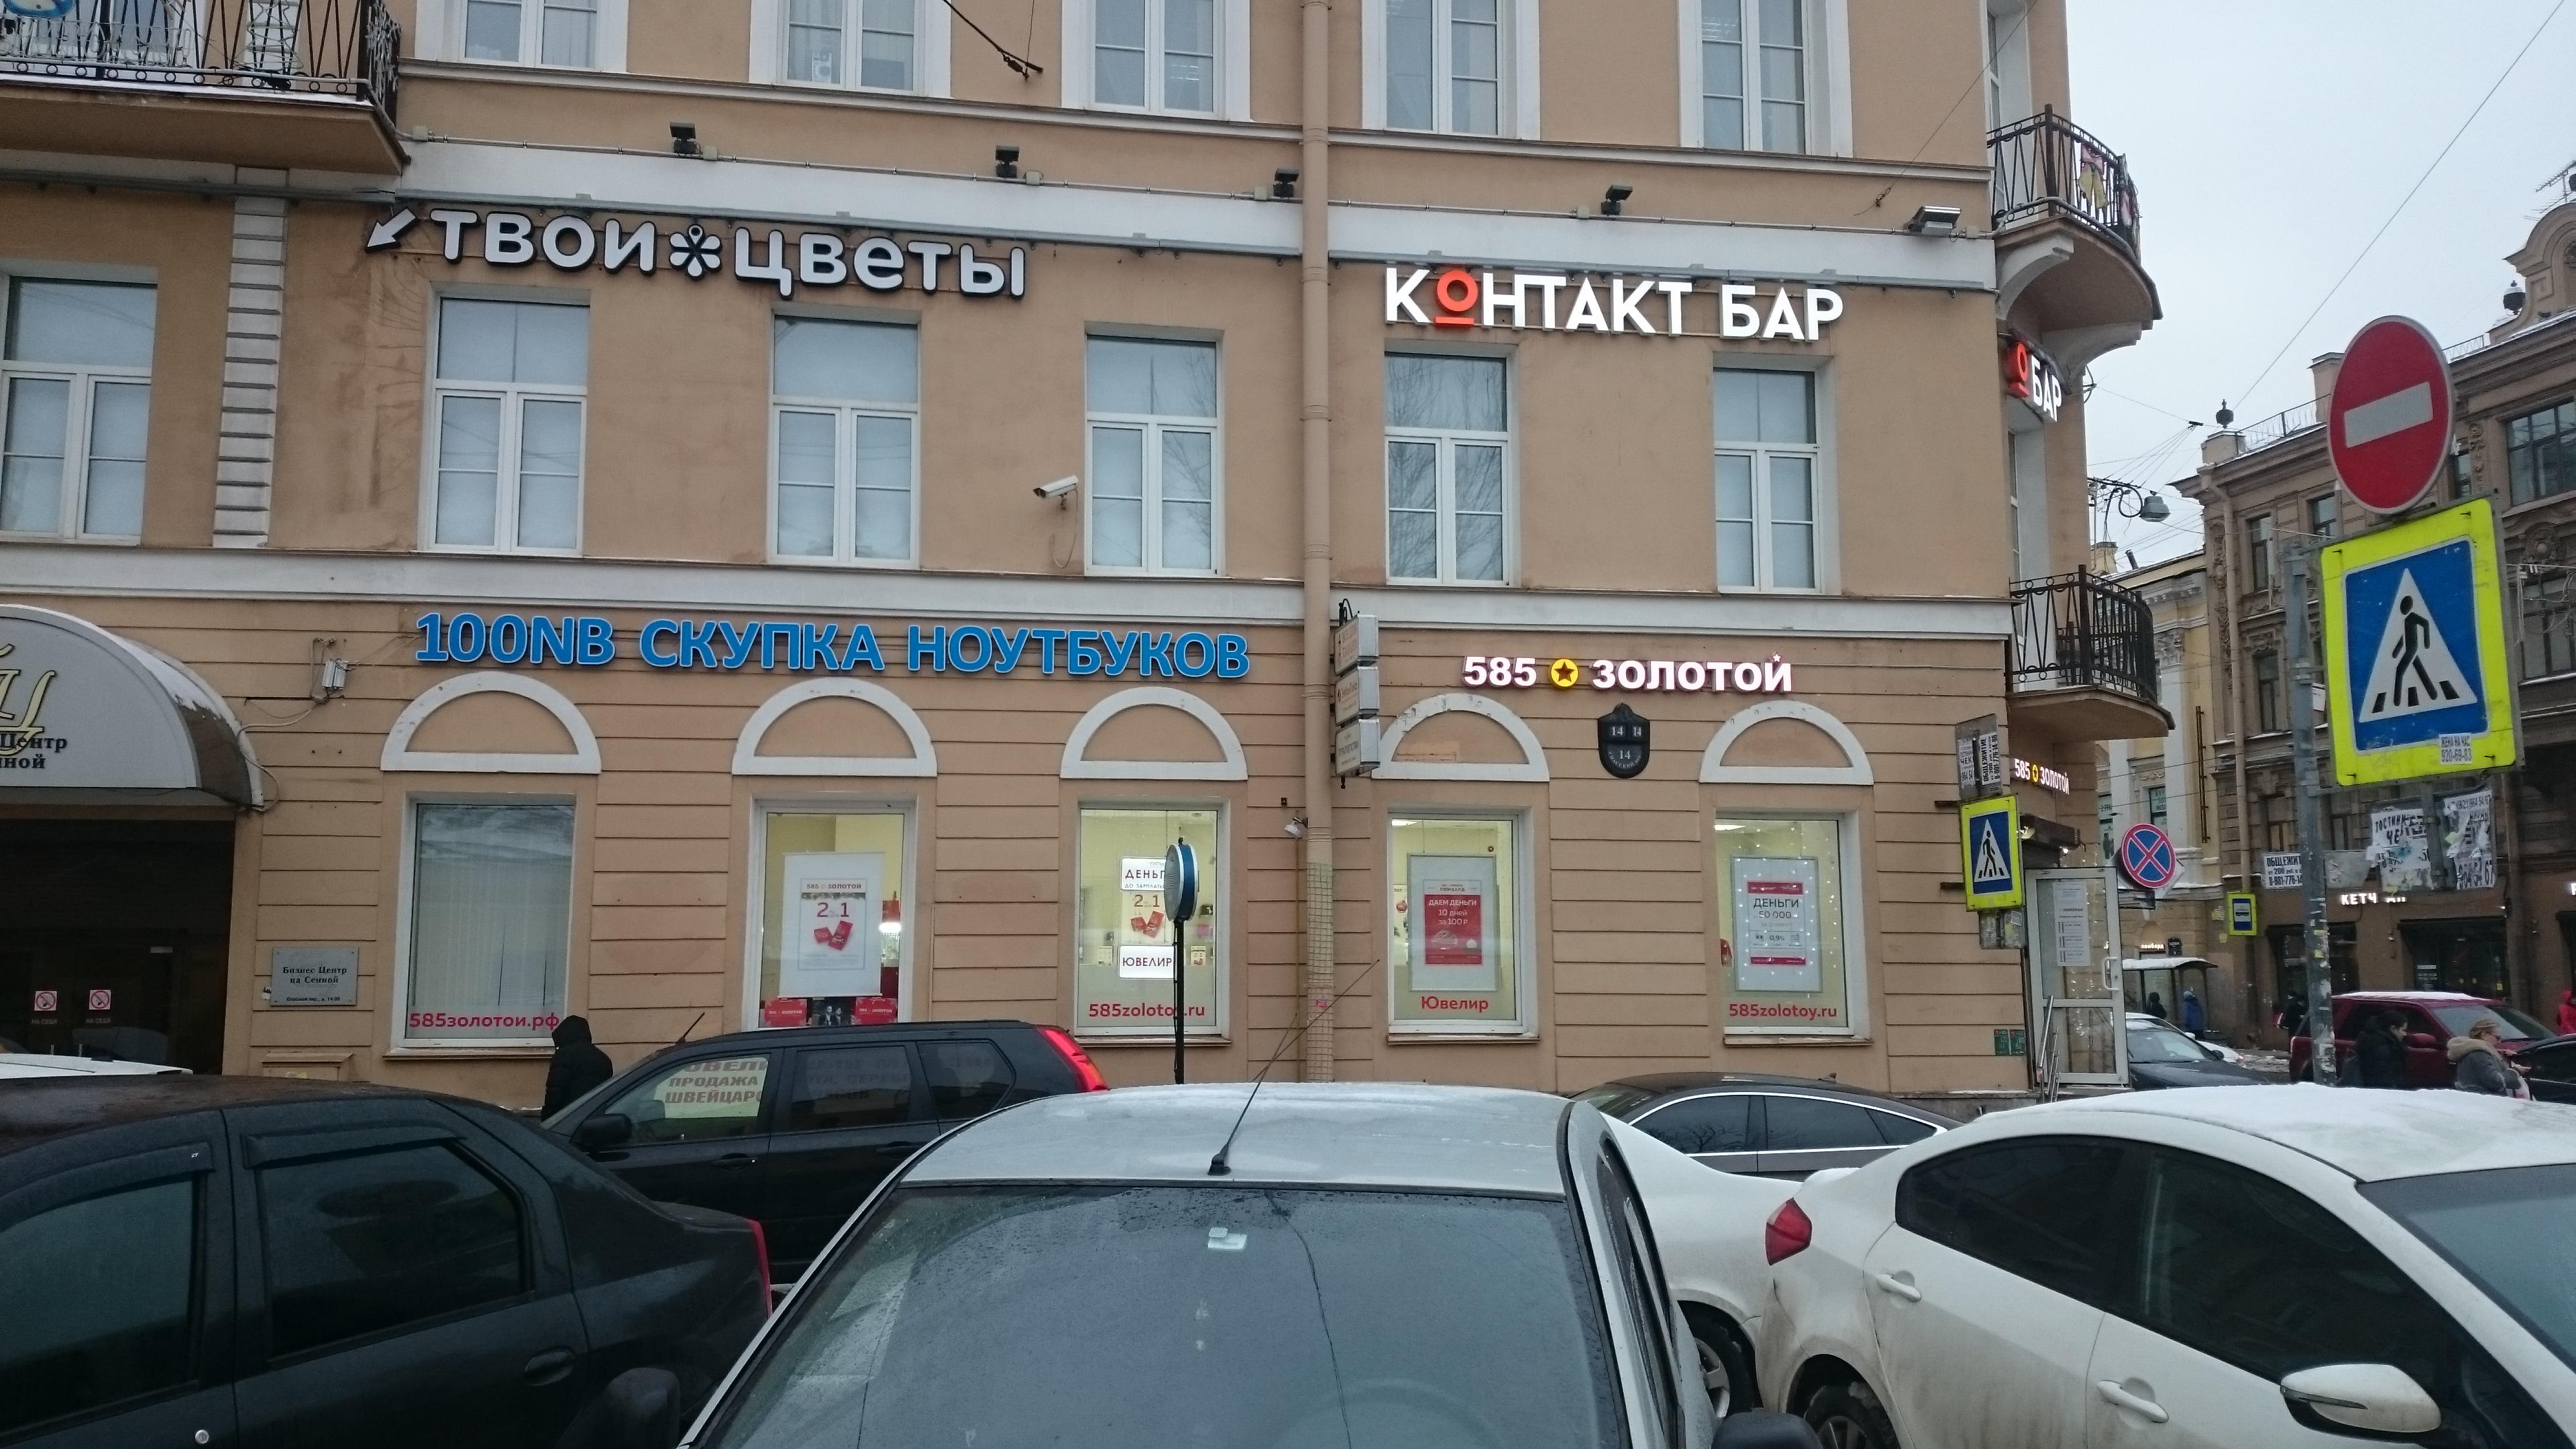cantilever: (1327, 605, 1382, 786)
signboard: (363, 205, 1030, 308), (416, 607, 1254, 685), (1378, 262, 1847, 343), (1460, 653, 1792, 701), (2006, 333, 2063, 426)
win_ad: (1093, 855, 1208, 1024), (1725, 860, 1842, 1019), (1410, 853, 1500, 1014), (786, 849, 872, 996)
window: (389, 798, 577, 1047), (770, 310, 927, 573), (428, 295, 584, 557), (0, 283, 152, 547), (1085, 324, 1221, 591), (1079, 807, 1228, 1047), (1716, 816, 1868, 1035), (759, 798, 906, 1024), (1375, 357, 1502, 580), (1396, 816, 1523, 1028), (1707, 366, 1826, 591)
